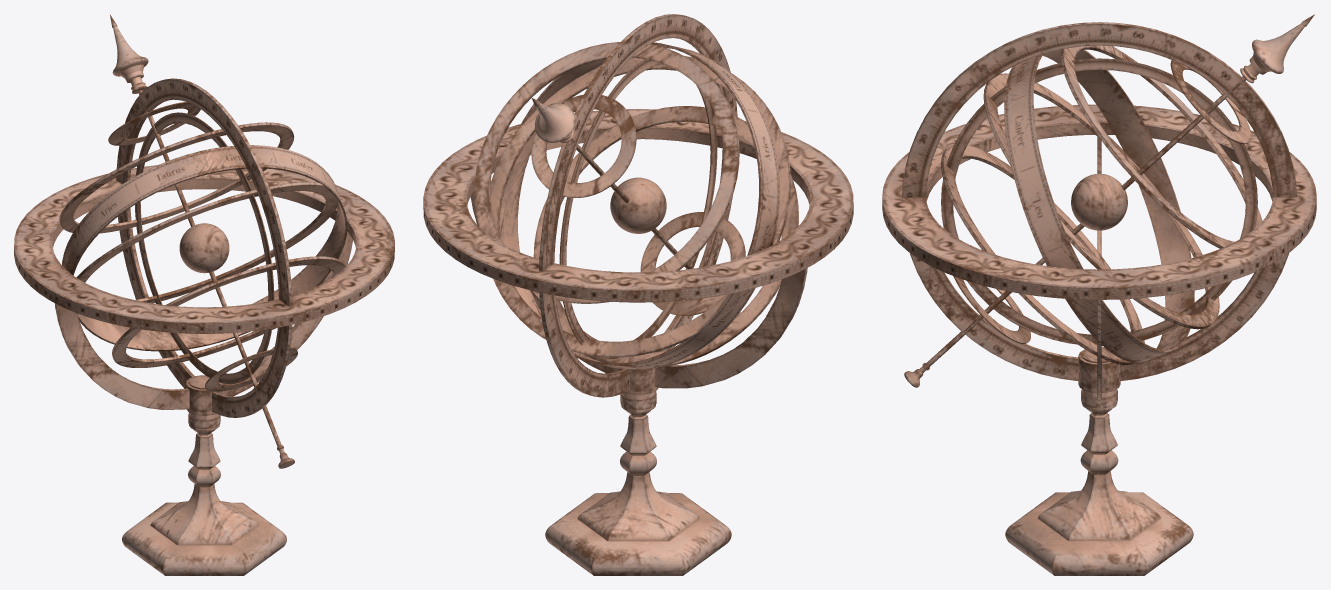
The model's file is armillary_sphere.gltf.
The picture shows the model from 3 angles, left to right: view 1: azimuth 30°, elevation 25°; view 2: azimuth 150°, elevation 25°; view 3: azimuth 270°, elevation 25°; orthographic projection. The views are drawn at different scales.
Visible parts, largest first — view 1: Lathe_2; view 2: Lathe_2; view 3: Lathe_2.
Part boxes in pixels (x1,y1,x2,y2): Lathe_2: (14,14,394,575); Lathe_2: (423,14,853,575); Lathe_2: (882,14,1316,575).
Bounding box in the file's own units: 0.3589 × 0.4822 × 0.3589.
1 material, 1 textured.
